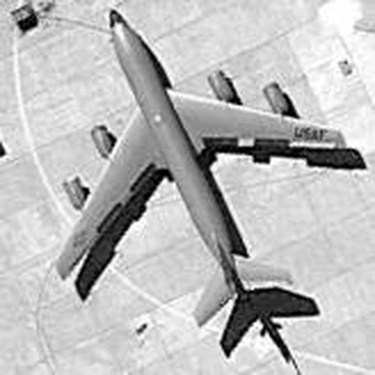airplane: (19, 1, 352, 358)
